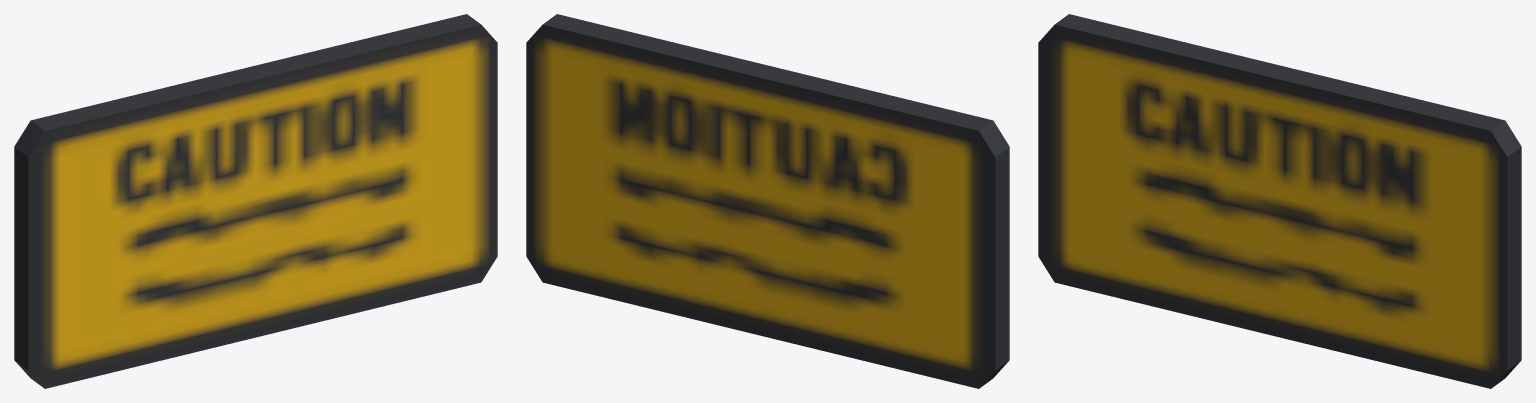
File: SM_Prop_Sign_Caution_01_502.obj
3 renders of one model, left to right at view 1: azimuth 30°, elevation 25°; view 2: azimuth 150°, elevation 25°; view 3: azimuth 330°, elevation 25°, orthographic.
Parts seen in each view (by area): view 1: SM_Prop_Sign_Caution_01_0; view 2: SM_Prop_Sign_Caution_01_0; view 3: SM_Prop_Sign_Caution_01_0.
Boxes of the visible parts, x1,y1,x2,y2 form: SM_Prop_Sign_Caution_01_0: [14, 14, 497, 388]; SM_Prop_Sign_Caution_01_0: [526, 14, 1009, 388]; SM_Prop_Sign_Caution_01_0: [1038, 14, 1521, 388].
Bounding box in the file's own units: 0.3111 × 0.1635 × 0.0166.
Materials: 1 (1 with a texture image).
